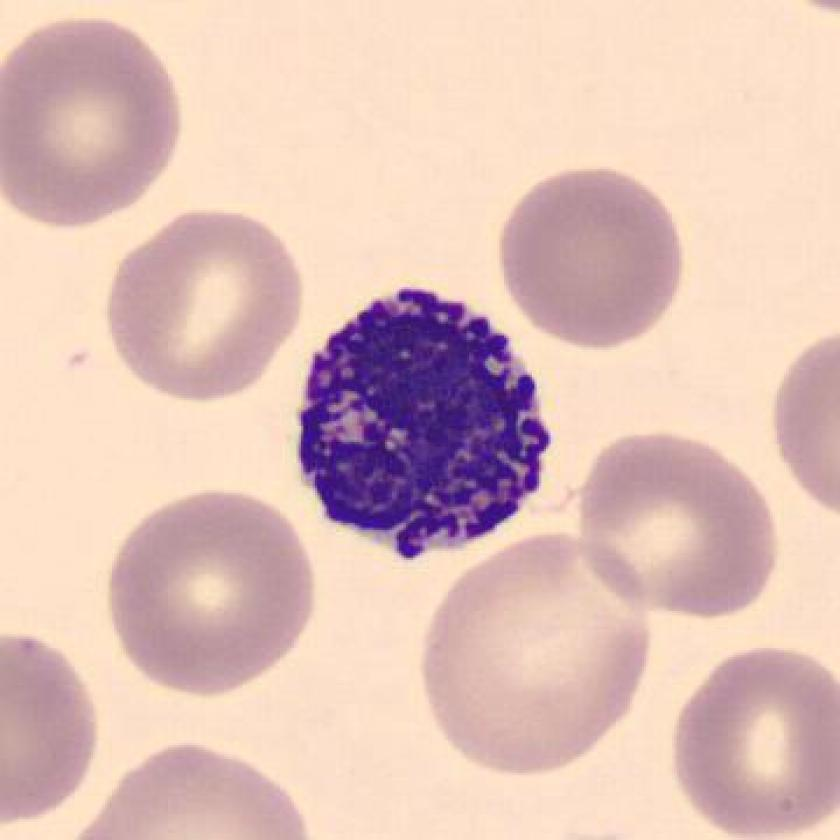basophil: (288, 274, 556, 566)
